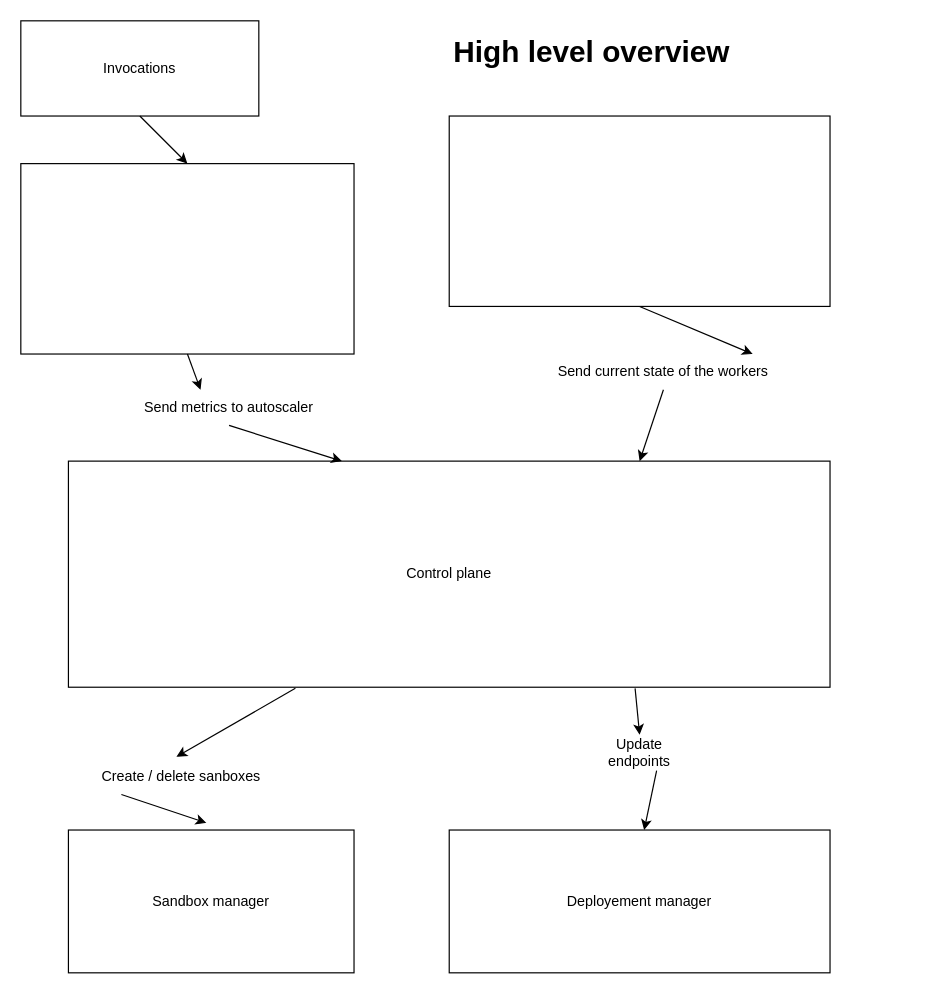
Some shapes in this 934 by 994 pixel diagram are drawn without their labels. Each missing label, with the centre of its shape:
"Metrics sender" goes at (x=187, y=258).
"Node heartbeats" goes at (x=639, y=210).
